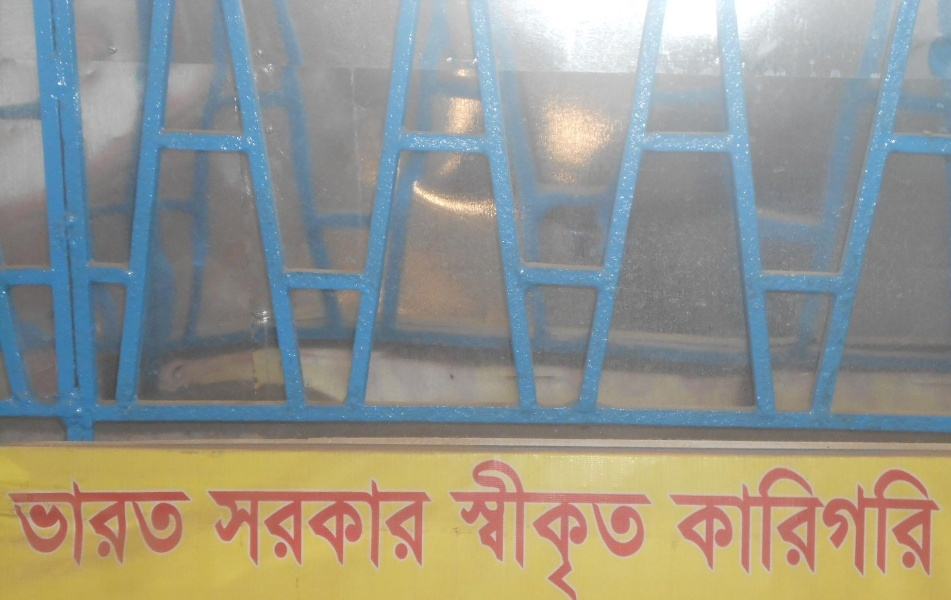text: (449, 457, 464, 597), (465, 457, 480, 597), (481, 457, 496, 597), (497, 457, 512, 597), (513, 457, 528, 597), (529, 457, 544, 597), (545, 457, 560, 597), (561, 457, 576, 597), (577, 457, 592, 597), (593, 457, 608, 597), (609, 457, 624, 597), (625, 457, 640, 597), (641, 457, 656, 597), (657, 457, 670, 597), (673, 465, 688, 578), (689, 465, 704, 578), (705, 465, 720, 578), (721, 465, 736, 578), (737, 465, 752, 578), (753, 465, 768, 578), (769, 465, 784, 578), (785, 465, 800, 578), (801, 465, 816, 578), (817, 465, 832, 578), (833, 465, 848, 578), (849, 465, 864, 578), (865, 465, 880, 578), (881, 465, 896, 578), (897, 465, 912, 578), (913, 465, 928, 578), (929, 465, 942, 578), (177, 480, 193, 568), (209, 479, 224, 568), (225, 479, 240, 568), (241, 479, 256, 568), (257, 479, 272, 568), (273, 479, 288, 568), (289, 479, 304, 568), (305, 479, 320, 568), (321, 479, 336, 568), (337, 479, 352, 568), (353, 479, 368, 568), (369, 479, 384, 568), (385, 479, 400, 568), (401, 479, 416, 568), (417, 479, 432, 568), (17, 480, 32, 568), (33, 480, 48, 568), (49, 480, 64, 568), (65, 480, 80, 568), (81, 480, 96, 568), (97, 480, 112, 568), (113, 480, 128, 568), (129, 480, 144, 568), (145, 480, 160, 568), (161, 480, 176, 568), (5, 480, 16, 568), (668, 465, 672, 578), (445, 457, 448, 597), (206, 479, 208, 568), (433, 479, 434, 568)
